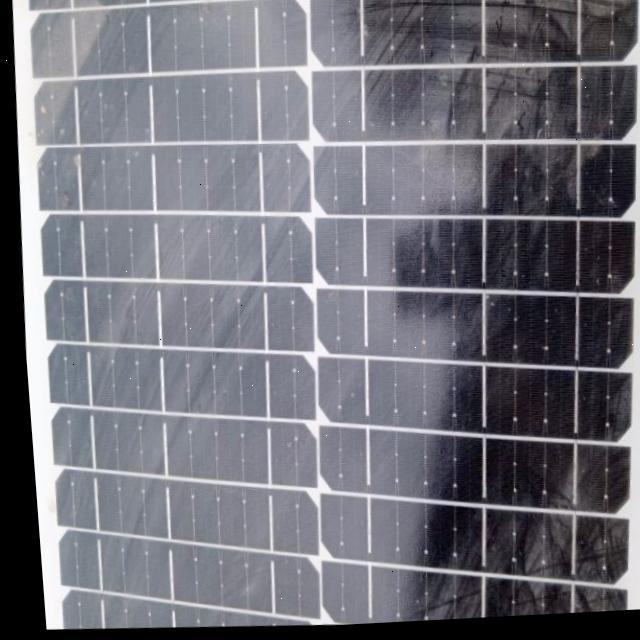Anomaly Solar Panel: (0, 0, 640, 640)
Surface Contaminant: (11, 0, 640, 609)
